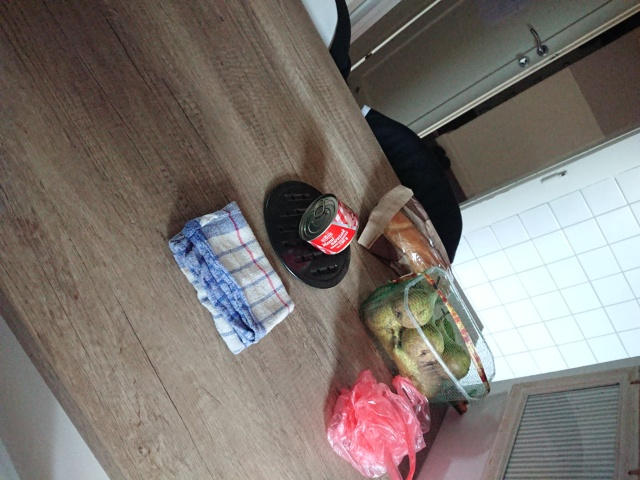Podravka Luncheon Meat 150g: (296, 191, 362, 258)
